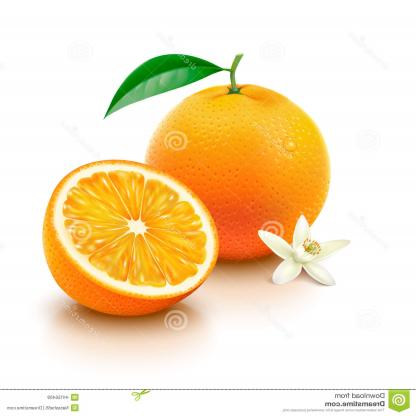orange: (140, 83, 333, 266)
